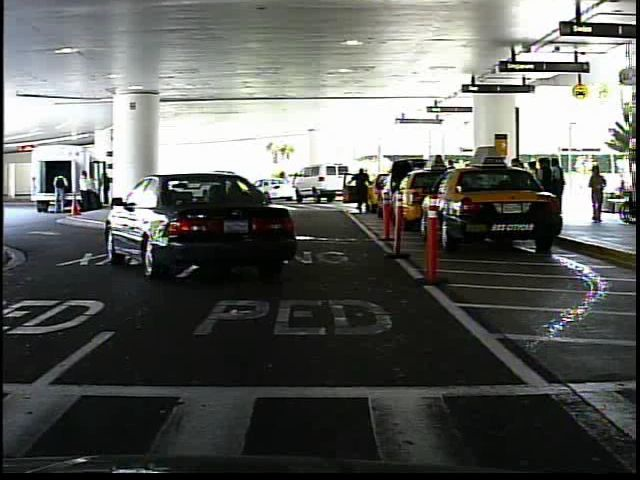person: (589, 163, 609, 226), (351, 166, 375, 218)
